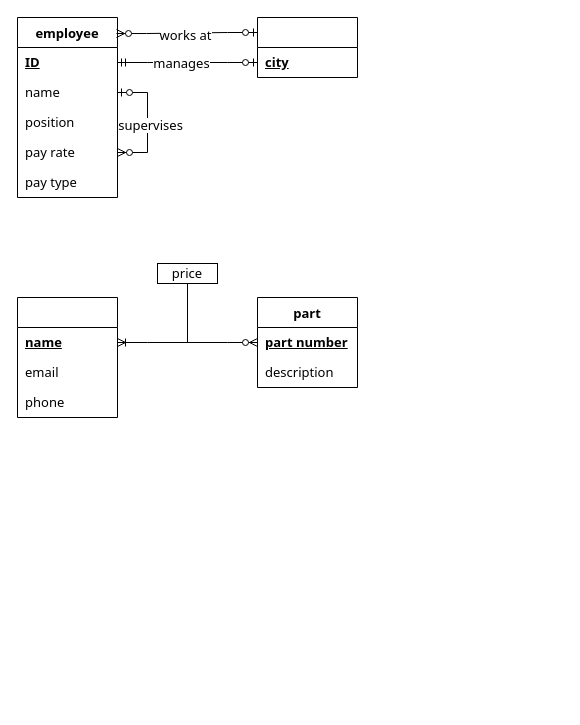
Some shapes in this 580 by 725 pixel diagram are drawn without their labels. Here are the shapes that lost their labels. From the top down, the box of each, then its label:
(256, 16, 358, 78): factory
(16, 296, 118, 418): vendor
